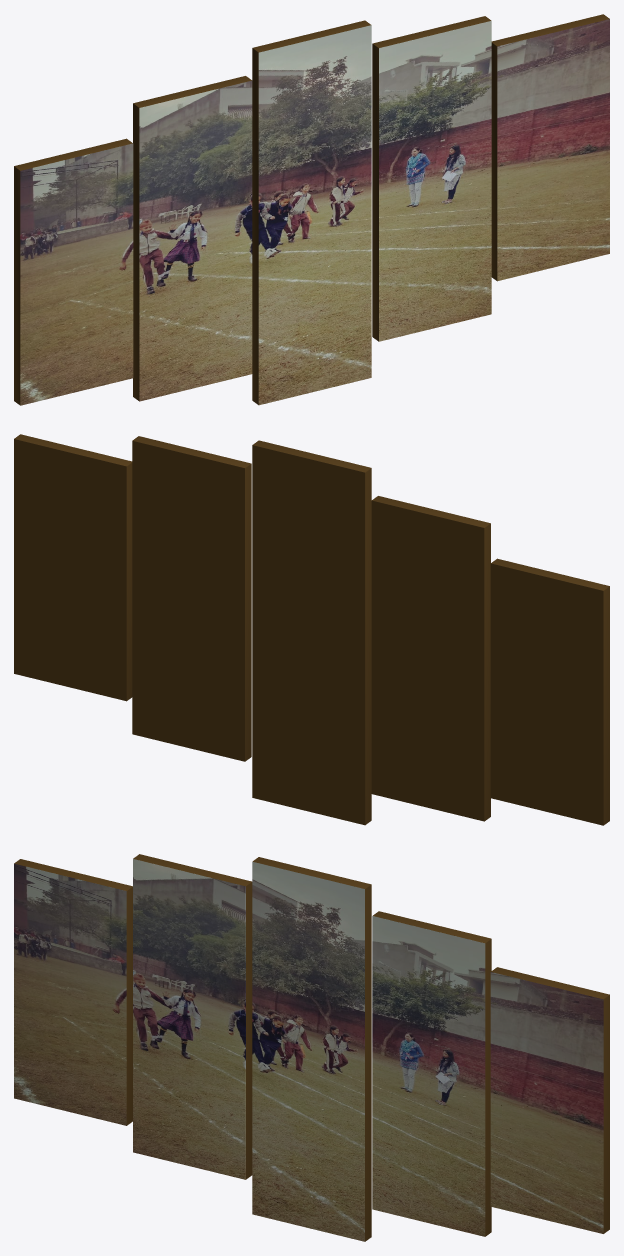
Rendered from race.gltf.
3 renders of one model, top to bottom at view 1: azimuth 30°, elevation 25°; view 2: azimuth 150°, elevation 25°; view 3: azimuth 330°, elevation 25°, orthographic.
Parts seen in each view (by area): view 1: Mosaic painting; view 2: Mosaic painting; view 3: Mosaic painting.
Boxes of the visible parts, left/top/right/bottom form: Mosaic painting: left=14, top=14, right=609, bottom=405; Mosaic painting: left=14, top=434, right=609, bottom=825; Mosaic painting: left=14, top=854, right=609, bottom=1241.
Bounding box in the file's own units: 2.64 × 1.51 × 0.05.
2 materials, 1 textured.
